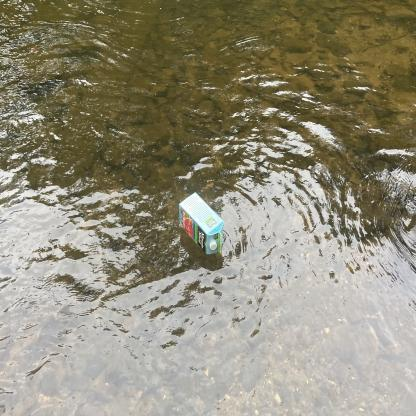trash: (176, 187, 228, 262)
